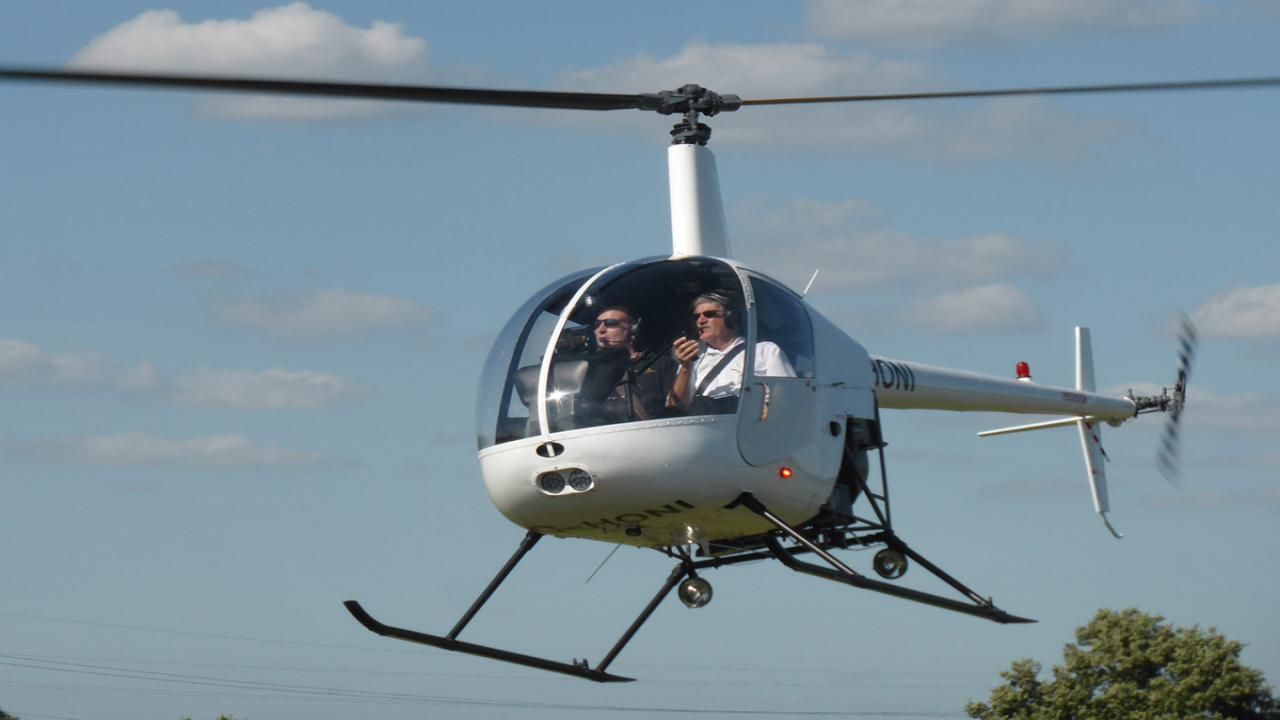Helicopter: (0, 42, 1280, 694)
